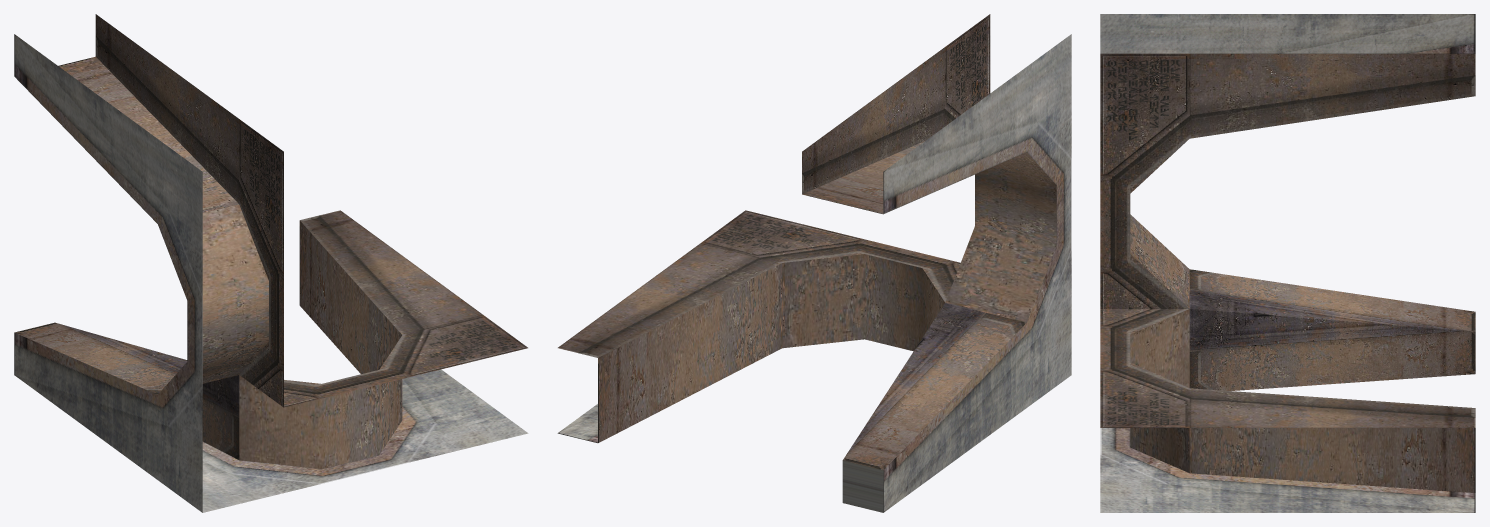
File: rv_mod_cit_interior_corner.obj
3 renders of one model, left to right at view 1: azimuth 30°, elevation 25°; view 2: azimuth 150°, elevation 25°; view 3: azimuth 270°, elevation 25°, orthographic.
Parts seen in each view (by area): view 1: rv_mod_cit_interior_corner; view 2: rv_mod_cit_interior_corner; view 3: rv_mod_cit_interior_corner.
Boxes of the visible parts, <box> form: rv_mod_cit_interior_corner: <box>14,14,528,512</box>; rv_mod_cit_interior_corner: <box>557,14,1071,512</box>; rv_mod_cit_interior_corner: <box>1100,14,1475,512</box>.
Size of the model in its own units: 8 by 8 by 8.
Materials: 2 (2 with a texture image).
